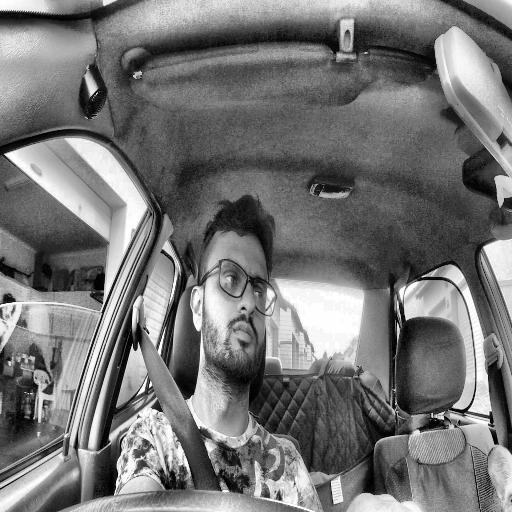awake: (190, 194, 278, 386)
